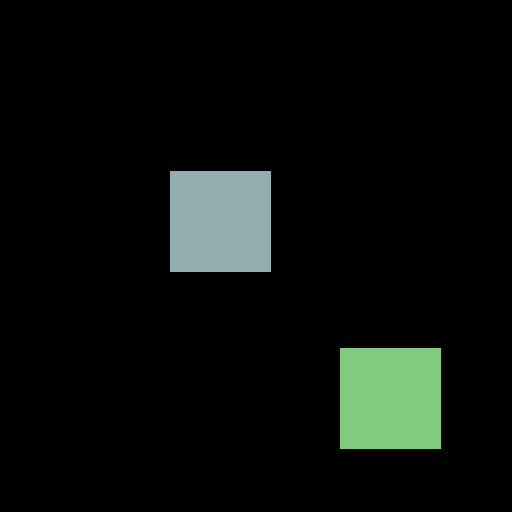square: (340, 348, 440, 448), (170, 171, 270, 271)
